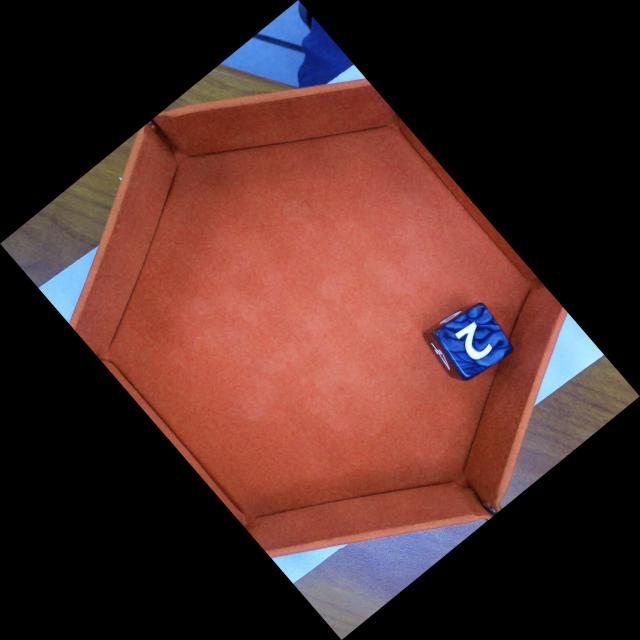dice: (430, 300, 520, 384)
